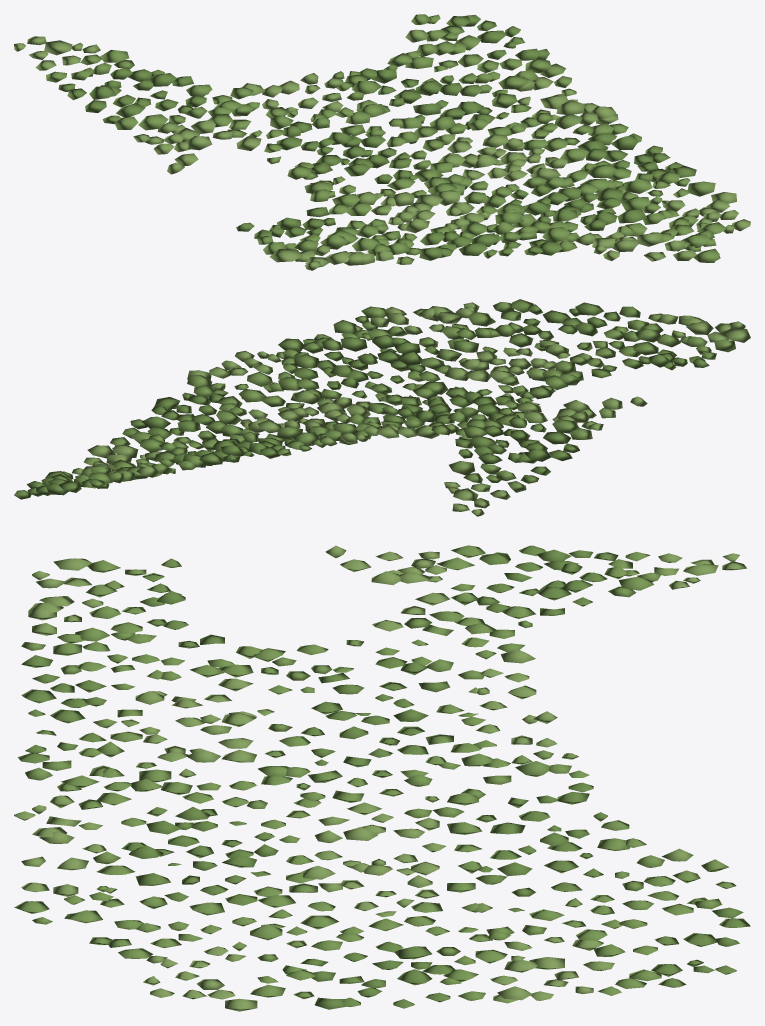
File: canopy-1--2--6.glb
3 renders of one model, top to bottom at view 1: azimuth 30°, elevation 25°; view 2: azimuth 150°, elevation 25°; view 3: azimuth 270°, elevation 25°, orthographic. The views are drawn at different scales.
Bounding box in the file's own units: 518 × 132 × 515.
1 material, 1 textured.
